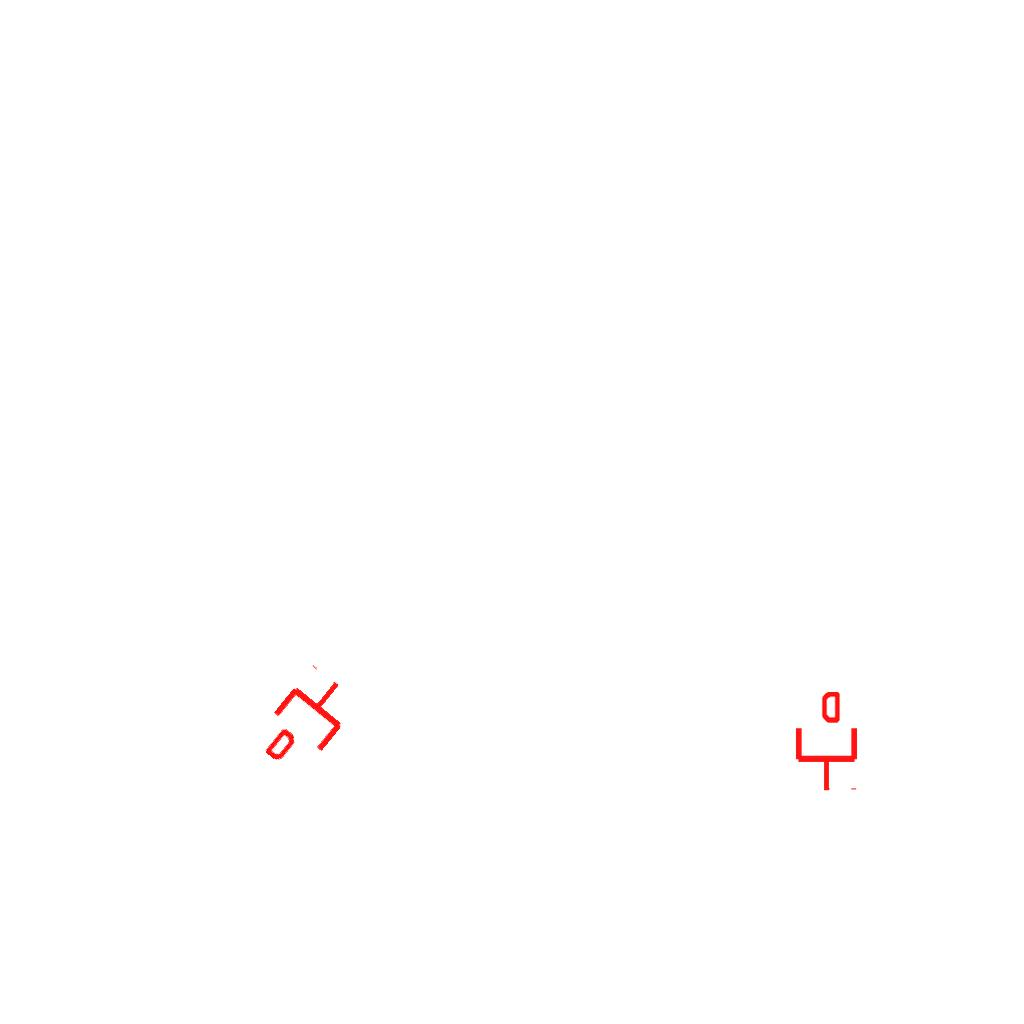Datenanschluss_einfach: (248, 660, 365, 782), (792, 692, 861, 792)
